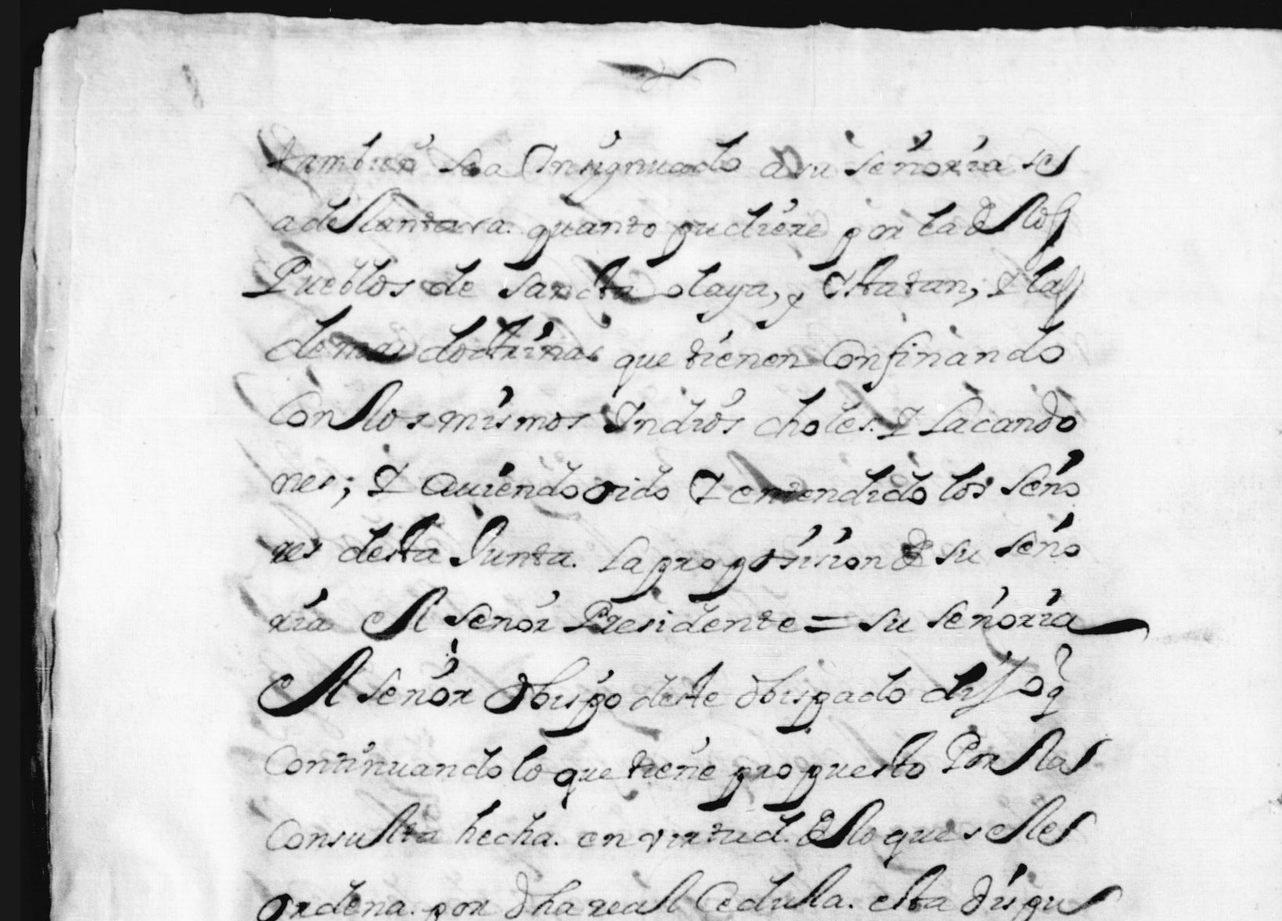lacandon: (919, 390, 1077, 436)
